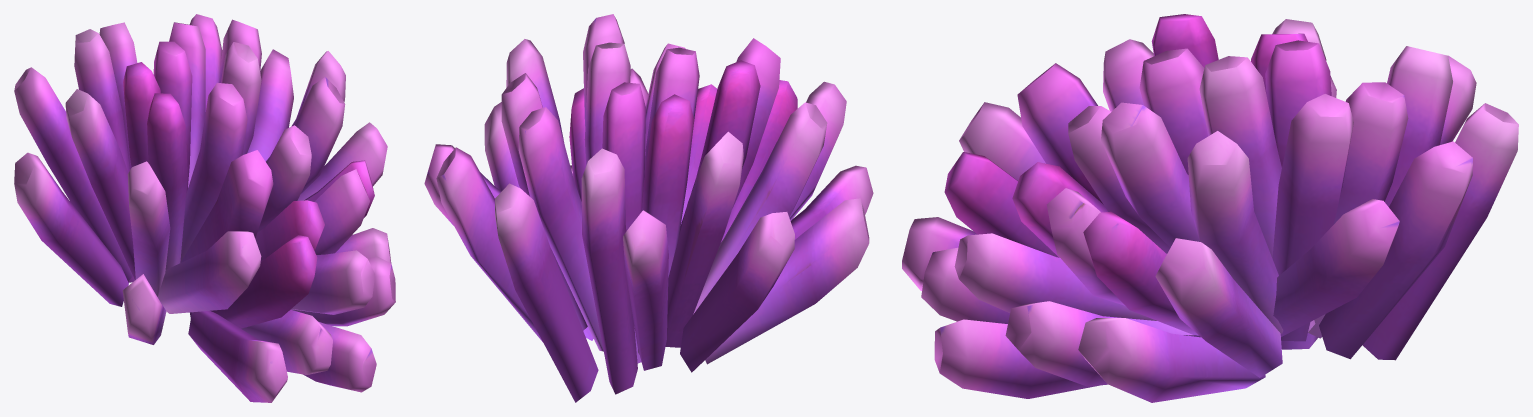
Rendered from G11_Inam plant.fbx.
3 renders of one model, left to right at view 1: azimuth 30°, elevation 25°; view 2: azimuth 150°, elevation 25°; view 3: azimuth 270°, elevation 25°, orthographic. The views are drawn at different scales.
Visible parts, largest first — view 1: node_id30; view 2: node_id30; view 3: node_id30.
Part boxes in pixels (x1=…): node_id30: x1=14, y1=14, x2=395, y2=402; node_id30: x1=424, y1=14, x2=873, y2=402; node_id30: x1=902, y1=14, x2=1518, y2=402.
Bounding box in the file's own units: 0.3157 × 0.2641 × 0.4362.
1 material, 1 textured.
